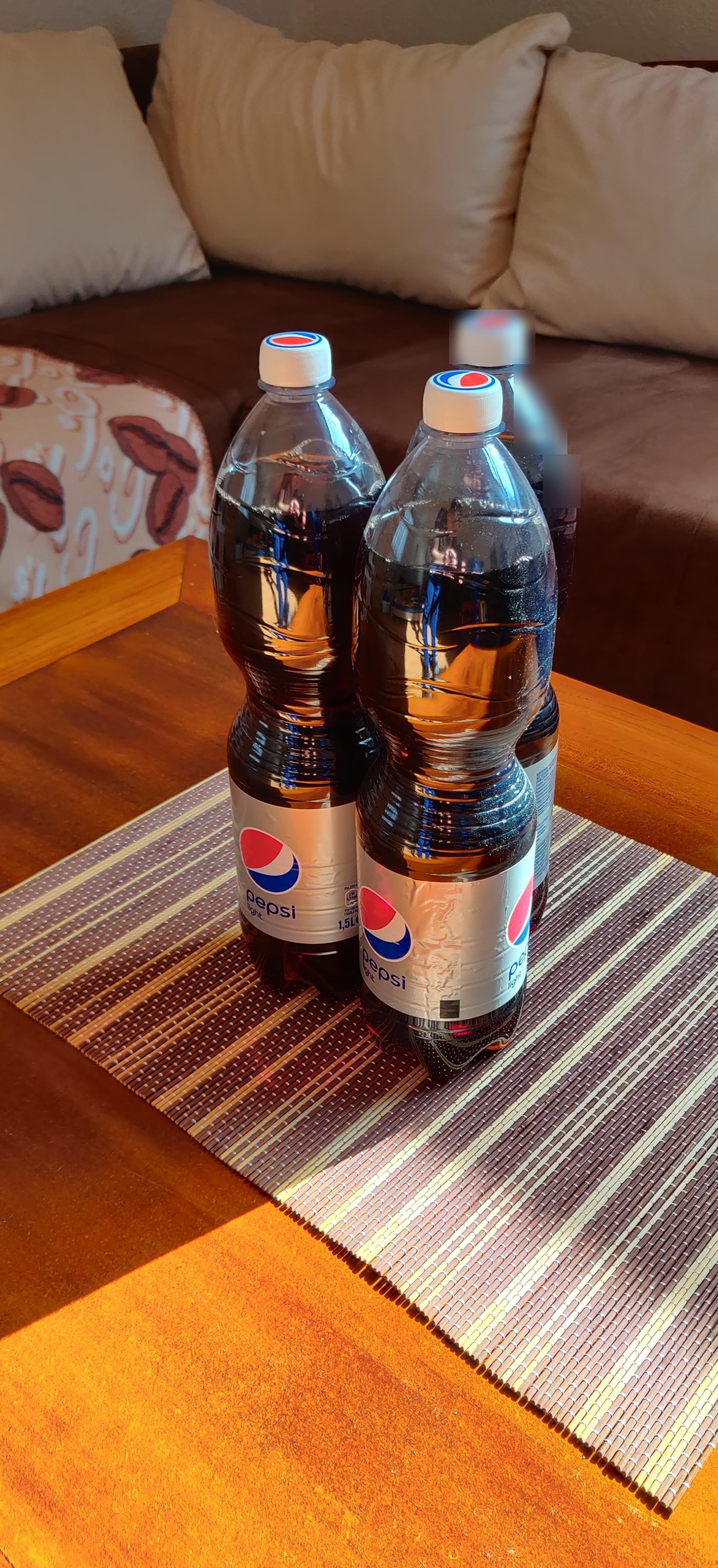bottle-plastic: (354, 370, 568, 1084), (207, 326, 383, 998)
